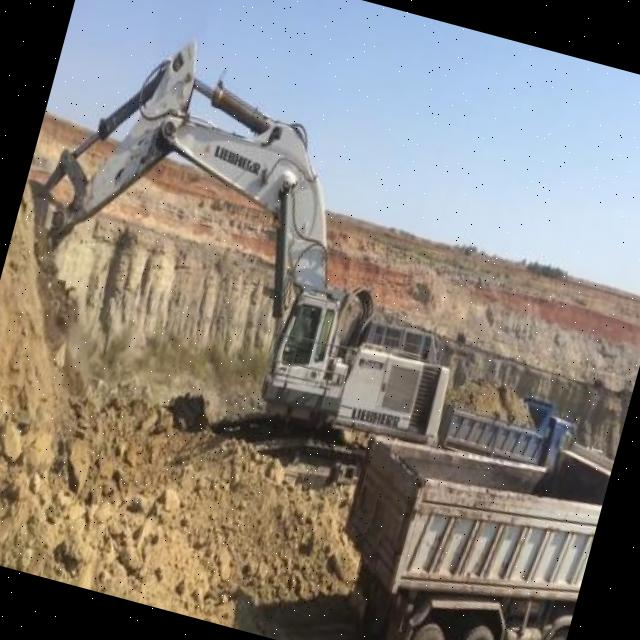Dump Truck: (310, 391, 615, 640), (432, 364, 586, 482)
Excavator: (0, 2, 523, 509)
